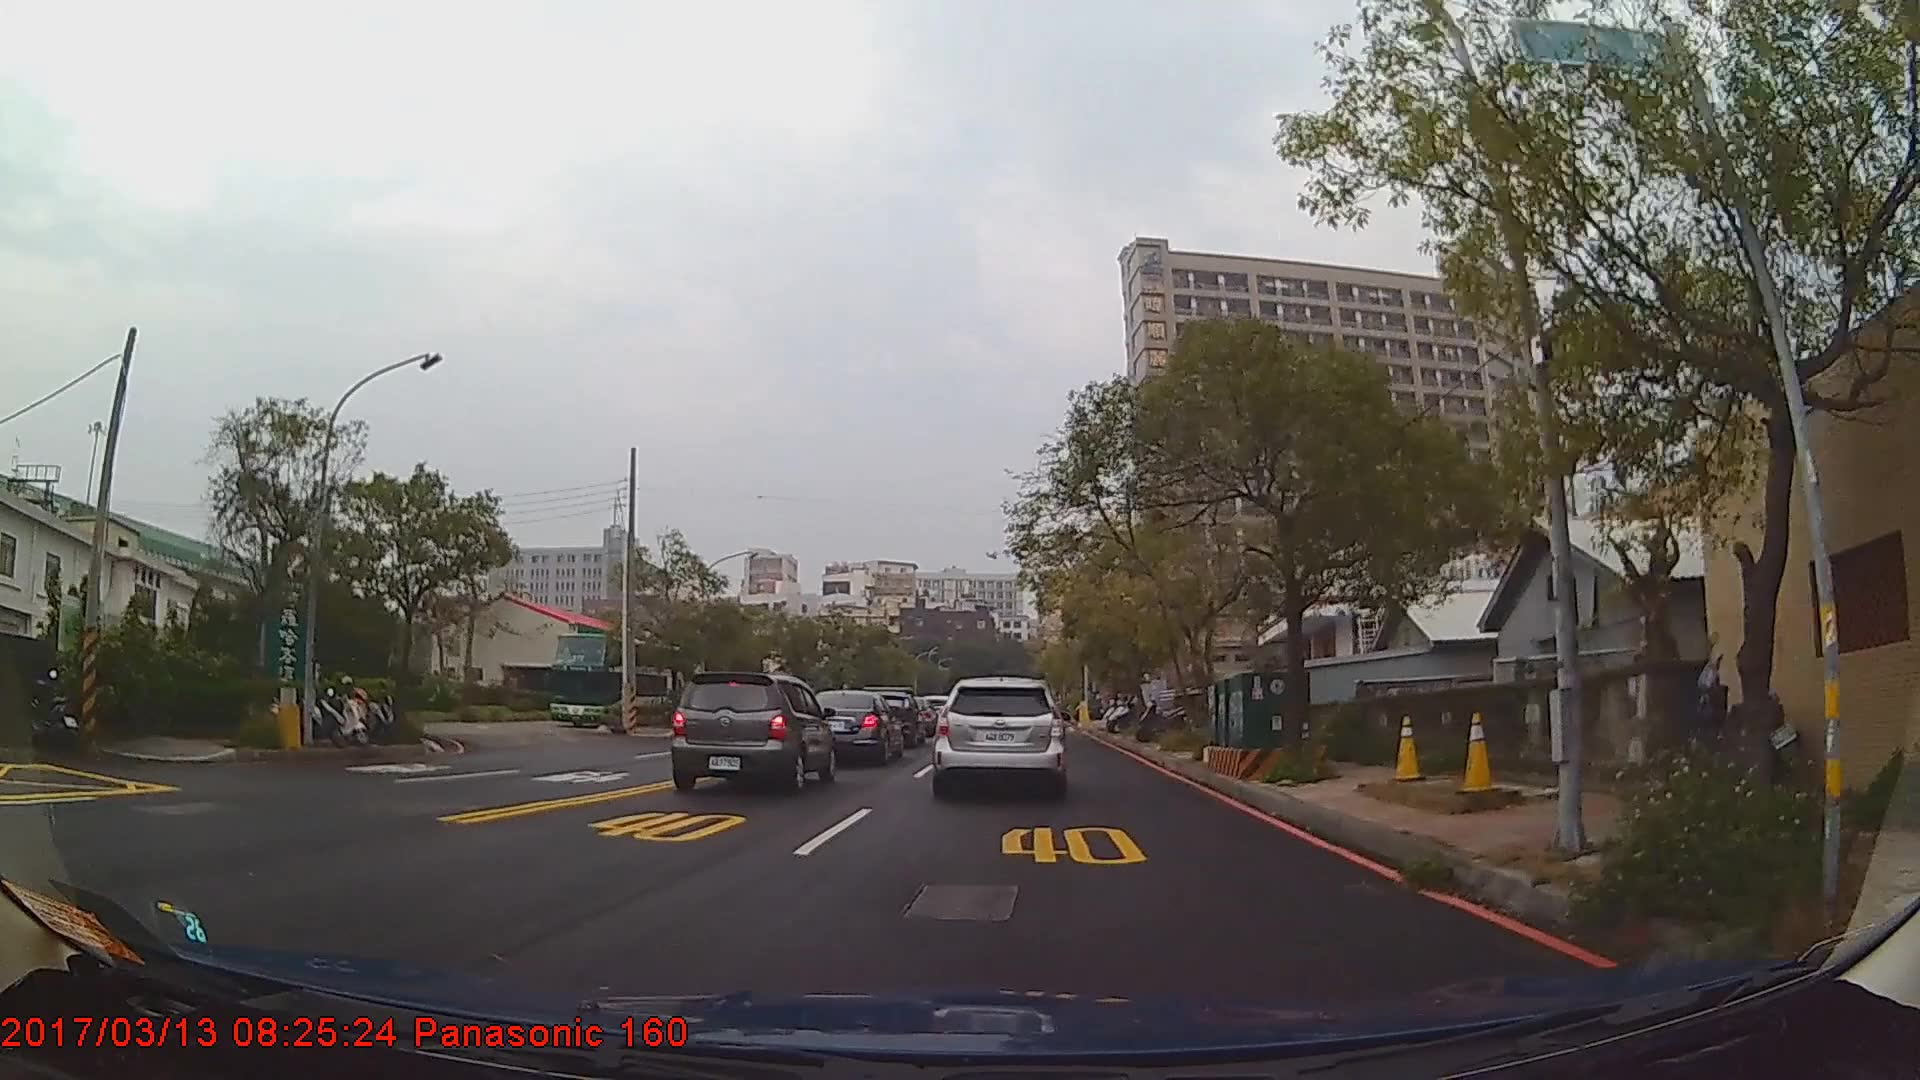vehicle: (666, 671, 831, 794), (931, 674, 1065, 794), (546, 632, 698, 735), (799, 688, 903, 766)
